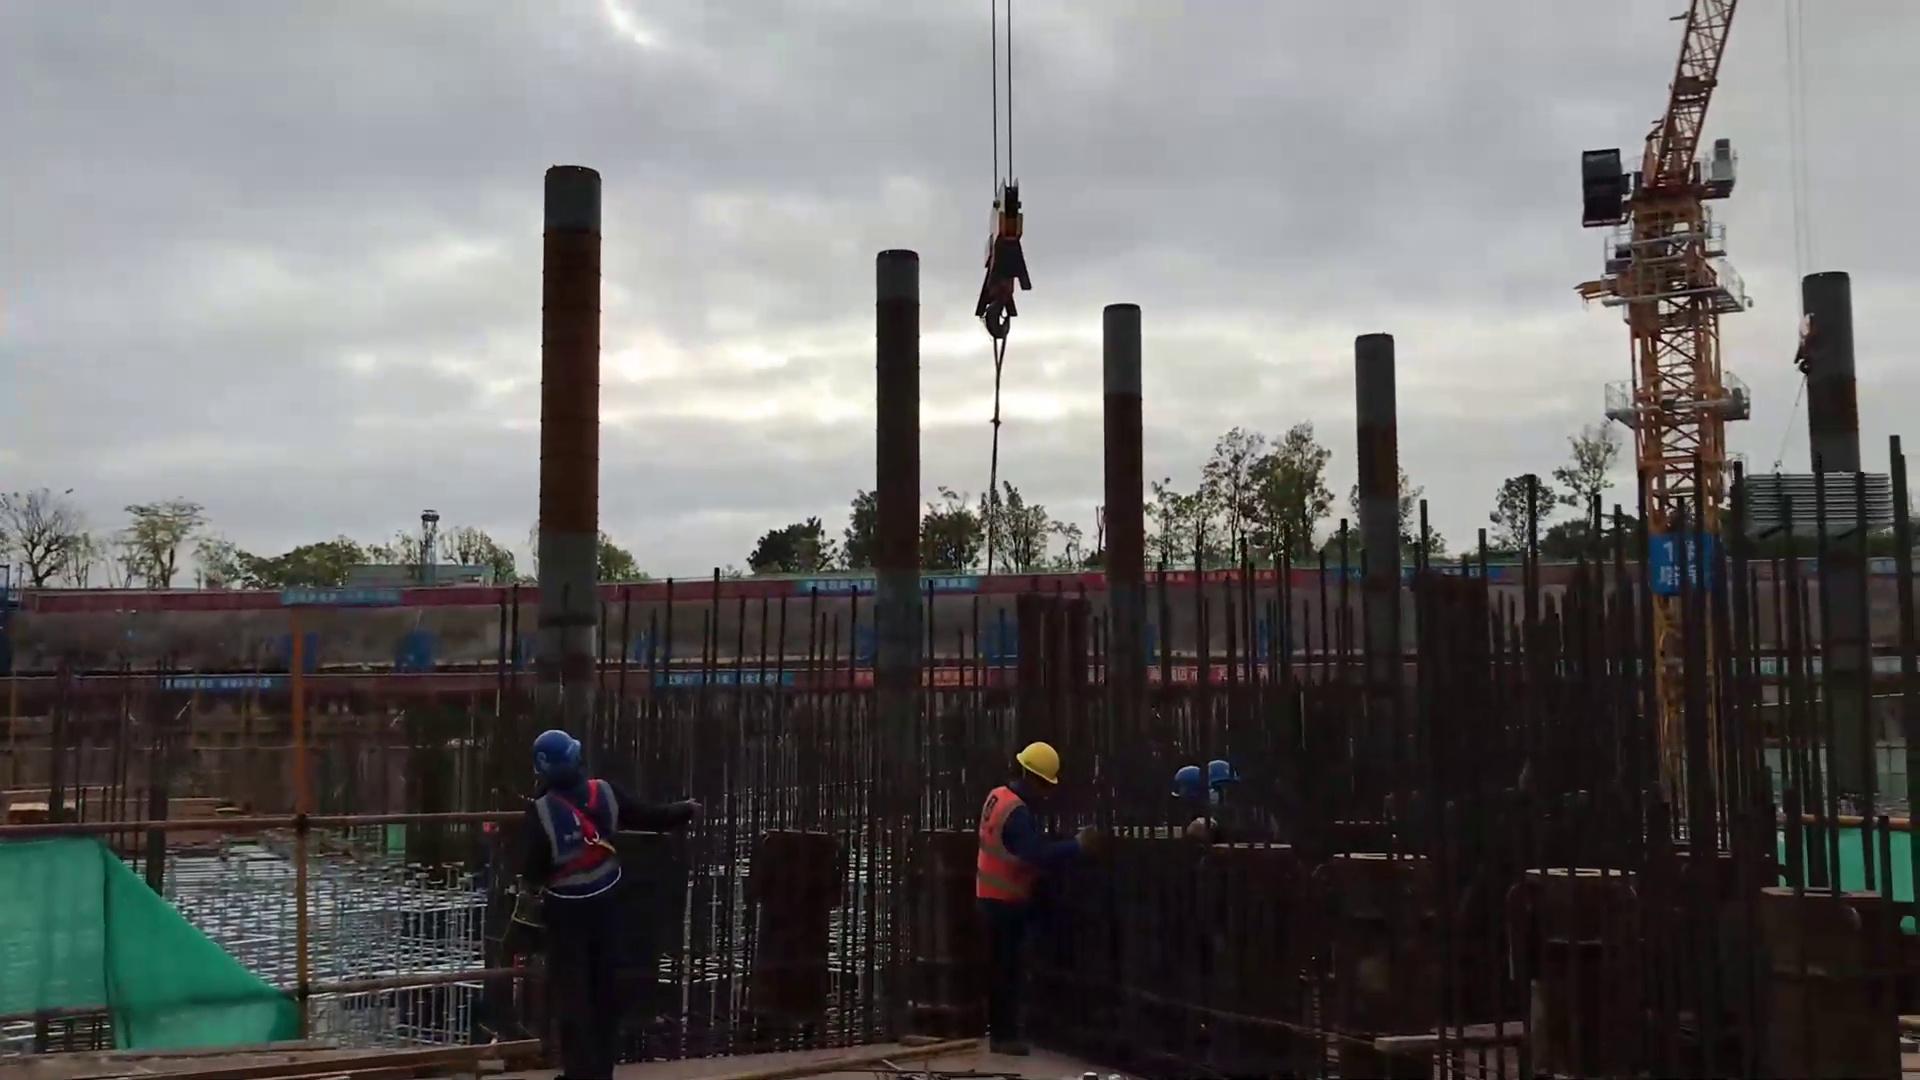helmet: (1012, 736, 1065, 791), (529, 731, 588, 777)
hook: (967, 169, 1046, 352)
person: (505, 712, 645, 1080), (969, 731, 1084, 1080)
vest: (522, 784, 626, 912), (976, 767, 1046, 912)
